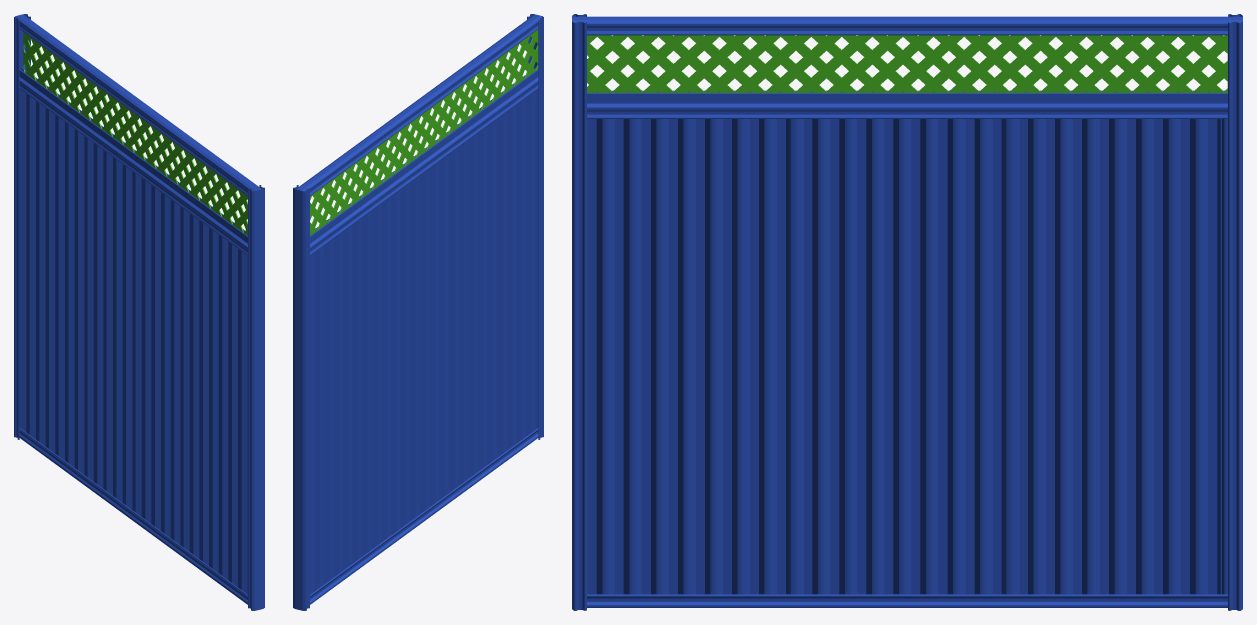
The model's file is STEPSSP.glb.
3 views of the same model, side by side, from view 1: azimuth 30°, elevation 25°; view 2: azimuth 150°, elevation 25°; view 3: azimuth 270°, elevation 25° (orthographic). The views are drawn at different scales.
Visible parts, largest first — view 1: STEPSSP_25; view 2: STEPSSP_25; view 3: STEPSSP_25.
Part boxes in pixels (left/top/right/bottom): STEPSSP_25: left=14, top=14, right=264, bottom=610; STEPSSP_25: left=293, top=14, right=543, bottom=610; STEPSSP_25: left=572, top=14, right=1242, bottom=610.
Size of the model in its own units: 0.07 by 2.1 by 2.17.
